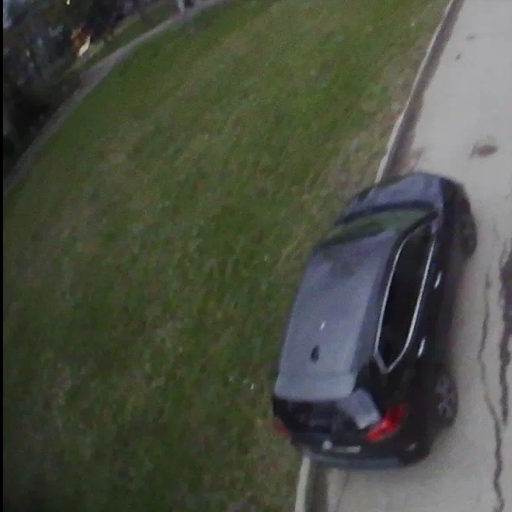Car: (271, 171, 476, 474)
